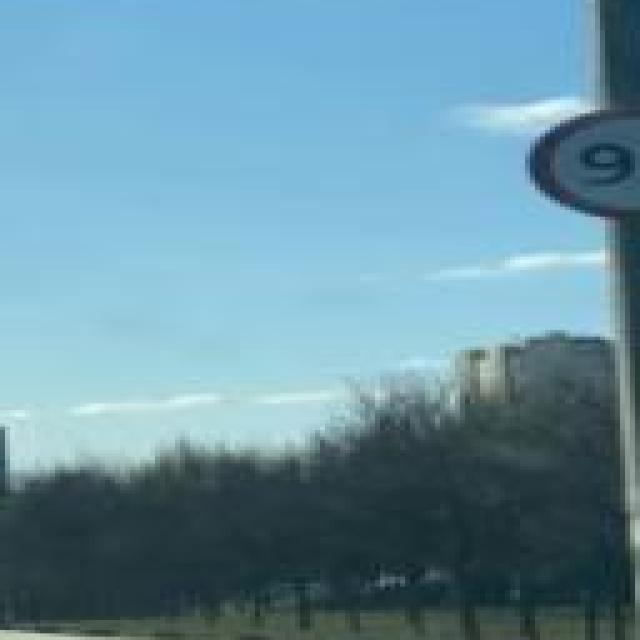Speed Limit -90-: (520, 100, 640, 223)
